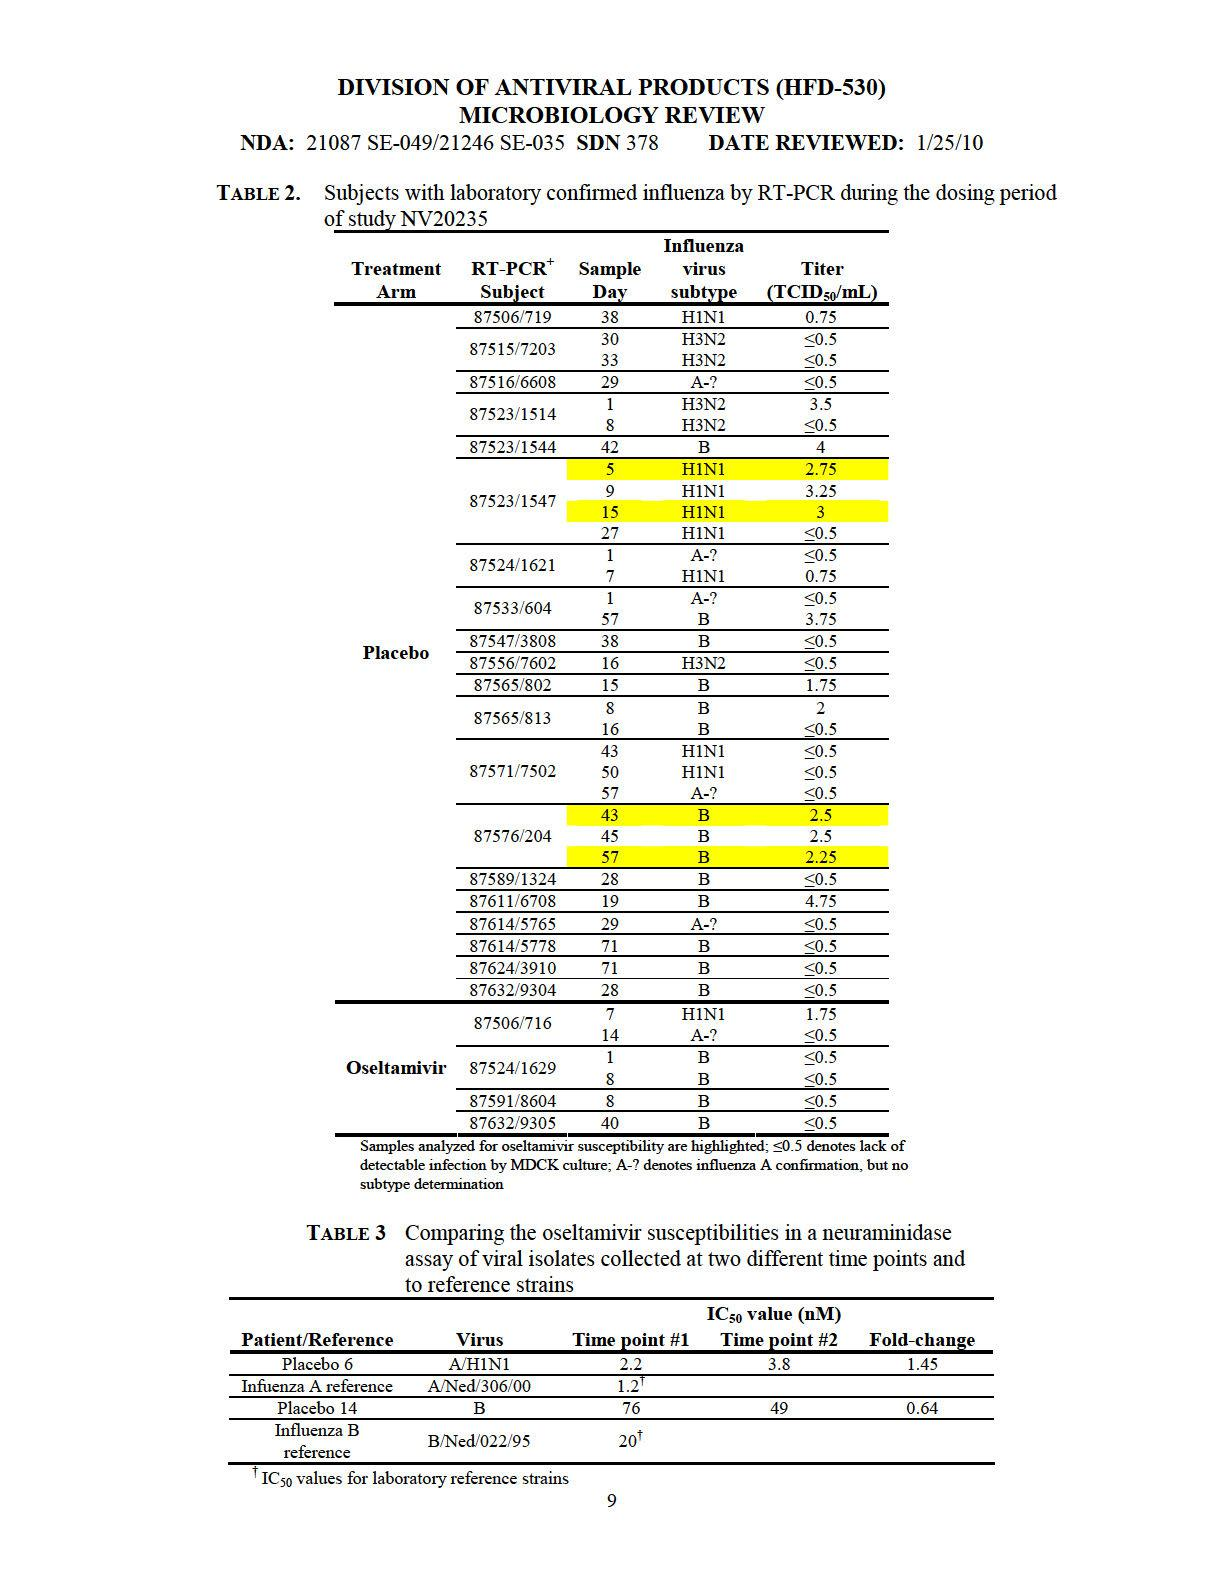partial_lined: (226, 1295, 995, 1466)
partial_lined_merged_cells: (334, 229, 890, 1138)
